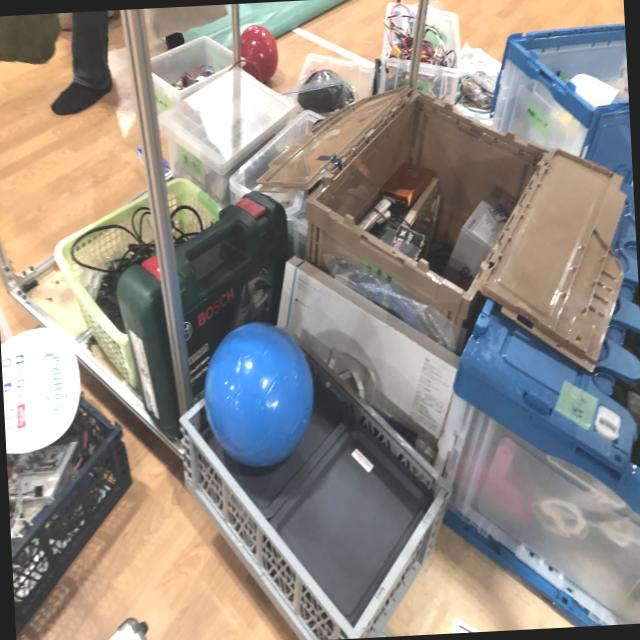blue_ball: (204, 322, 322, 467)
